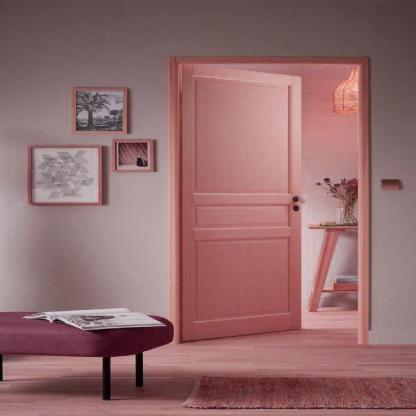door: (157, 48, 374, 350)
